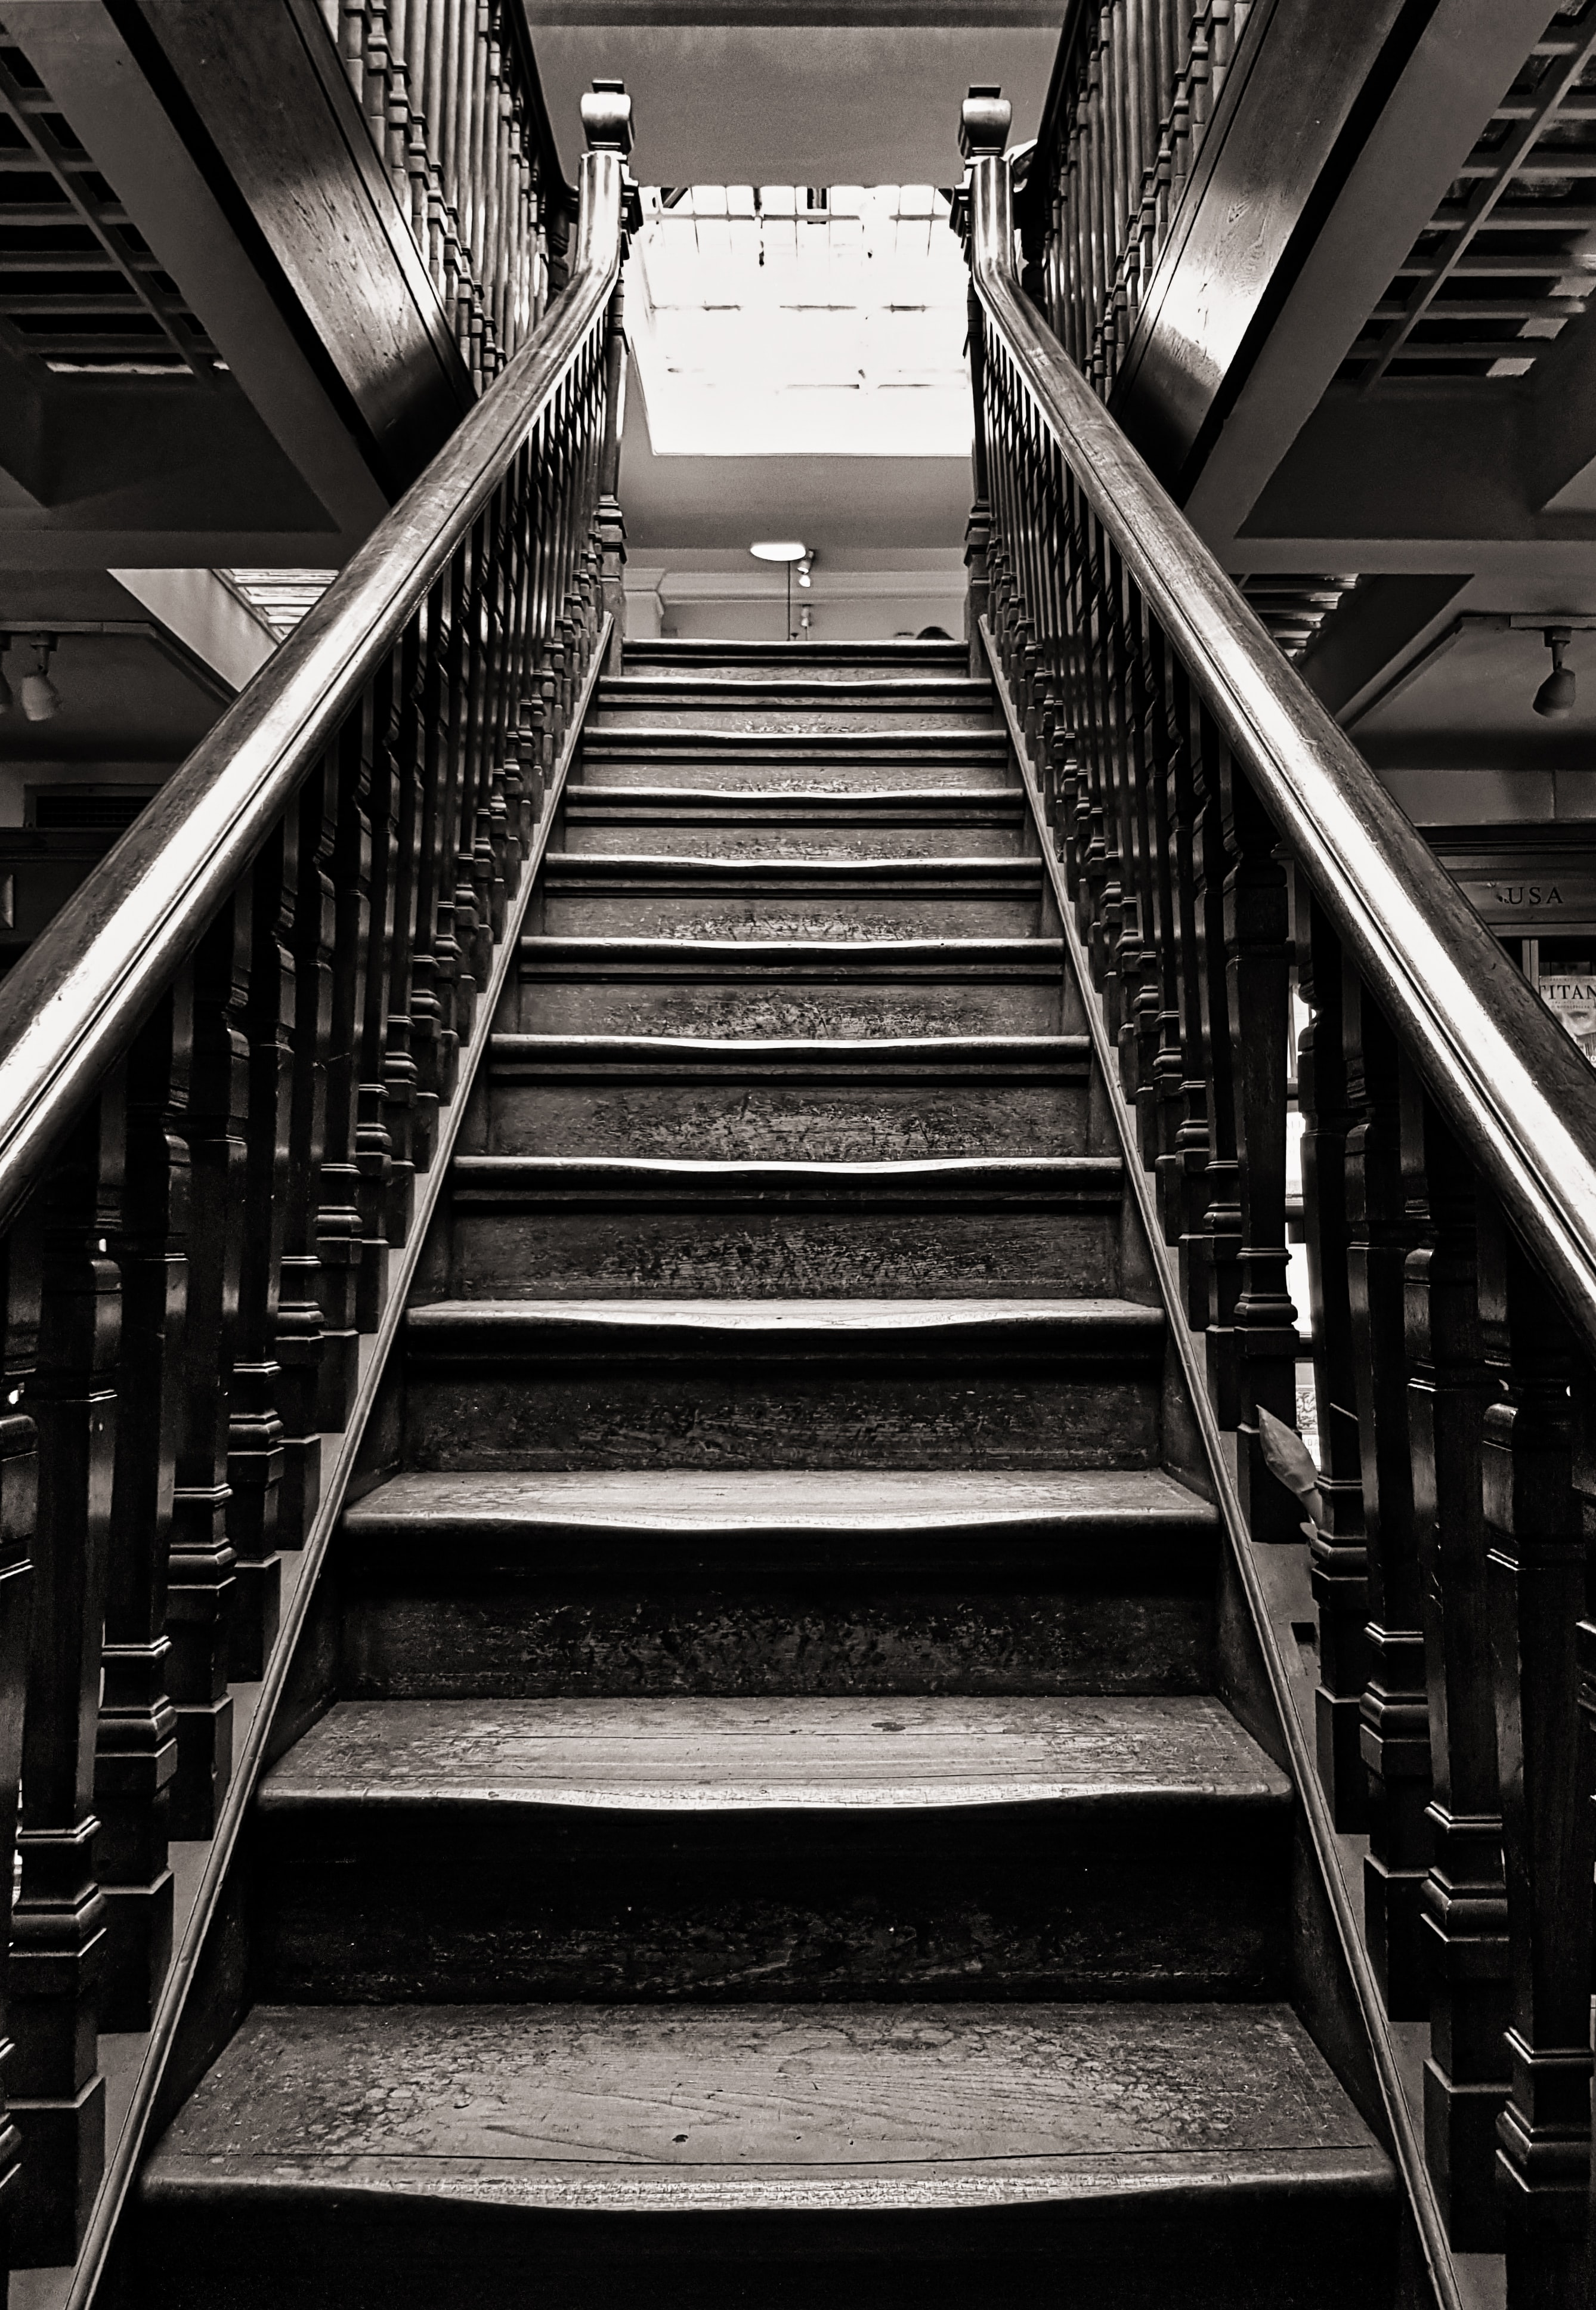upstairs: (362, 1281, 1224, 2310)
